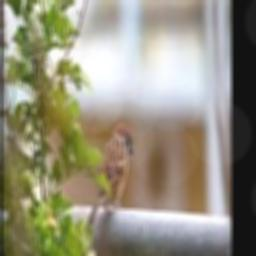Sparrow: (87, 122, 132, 224)
